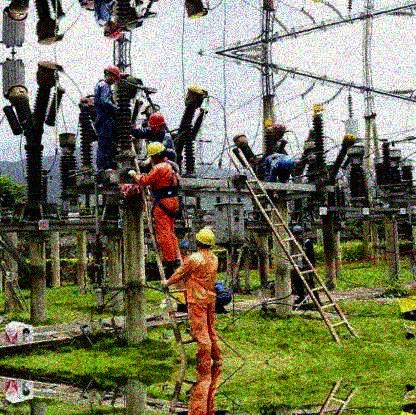helmet: (194, 227, 214, 252), (101, 19, 122, 42), (149, 112, 166, 138), (146, 143, 167, 163), (103, 64, 120, 86), (293, 225, 304, 241)
